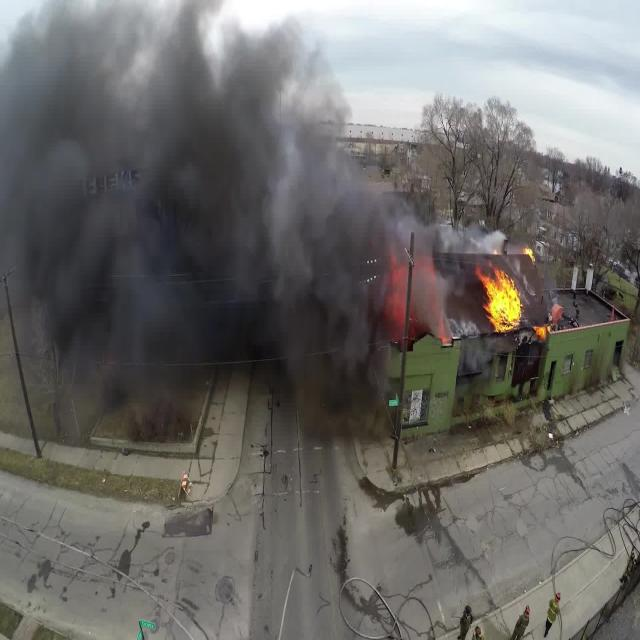Fire: (476, 248, 549, 341)
Smoke: (0, 0, 449, 424)
